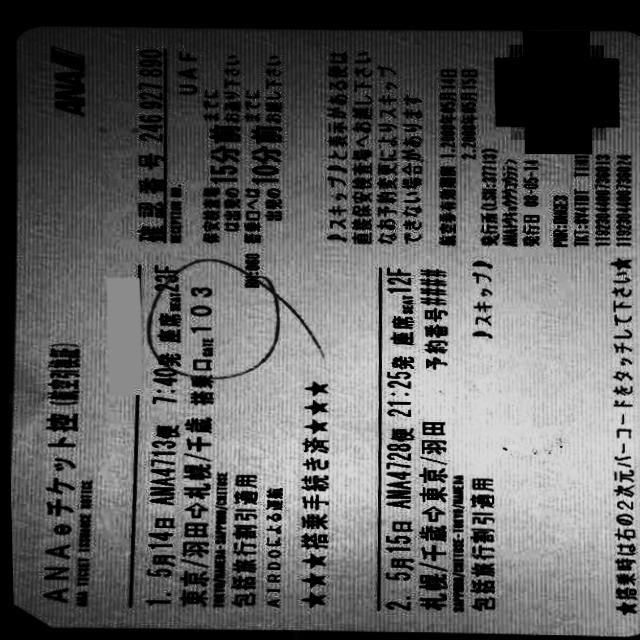qr_code: (509, 43, 605, 139)
